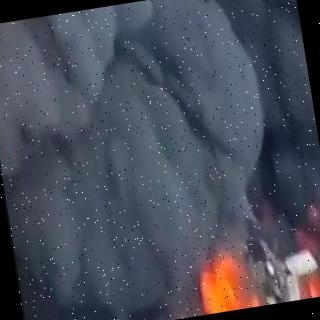smoke: (0, 1, 218, 320), (172, 0, 320, 257)
